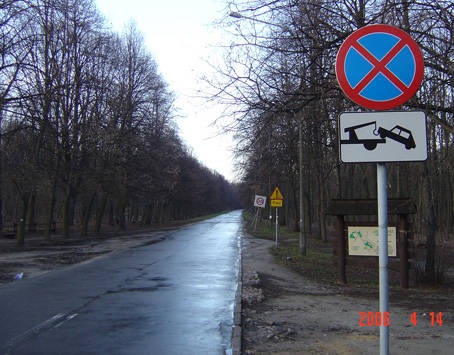no_stopping_sign: (334, 23, 424, 110)
